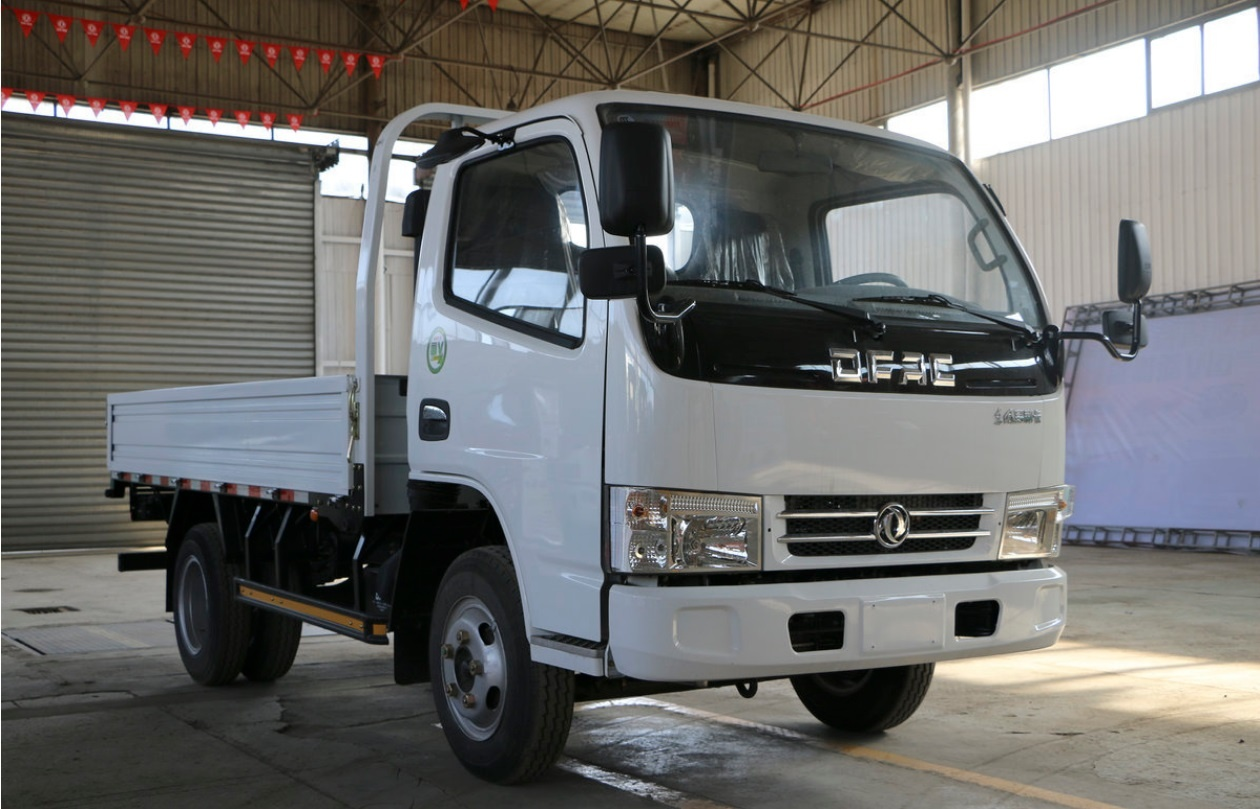truck: (108, 79, 1148, 769)
